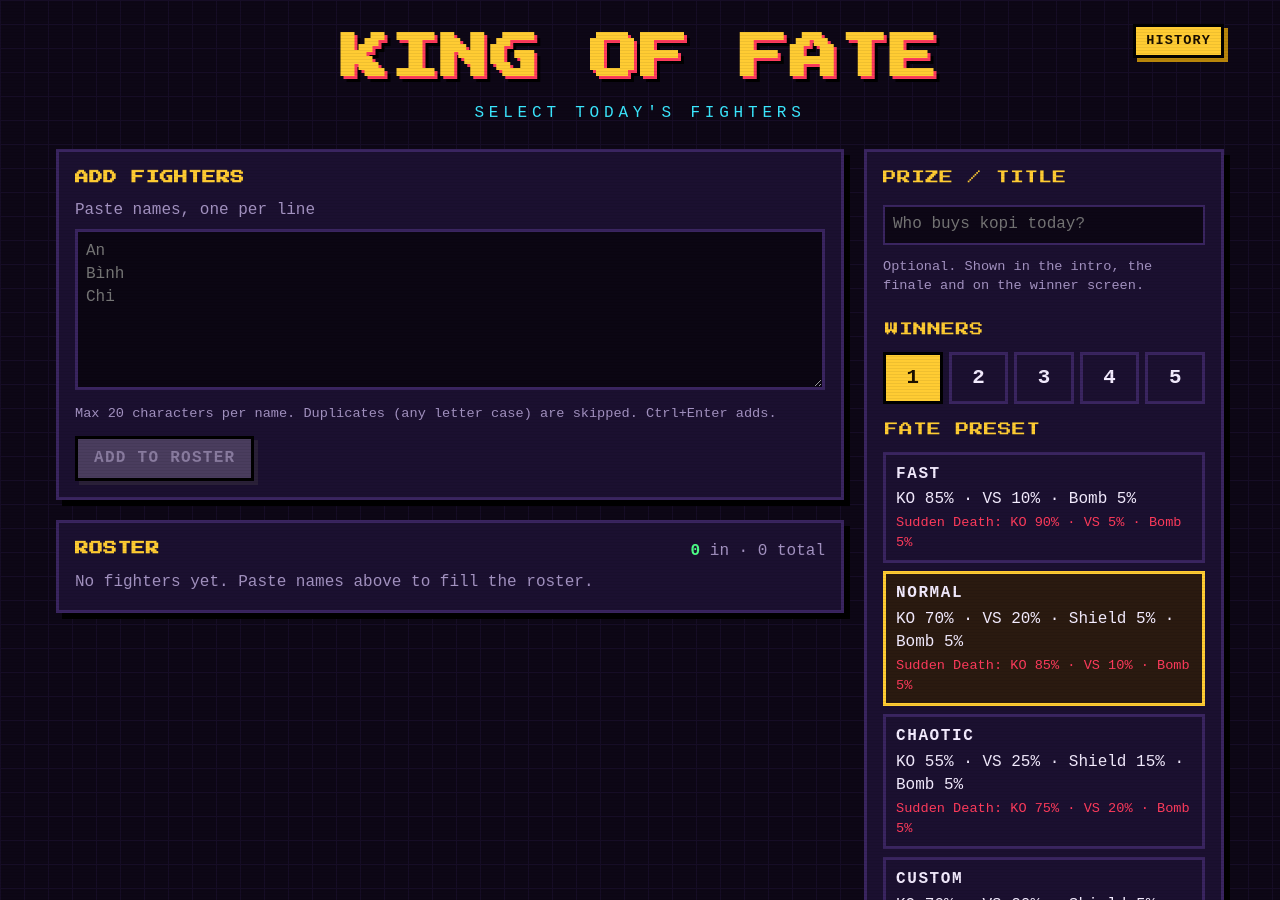
it: History screen (Phase 6) › ranks the luck board and explains it is chance, not skill
Click the button "History" at (1179, 41), box [1133,24,1224,58]
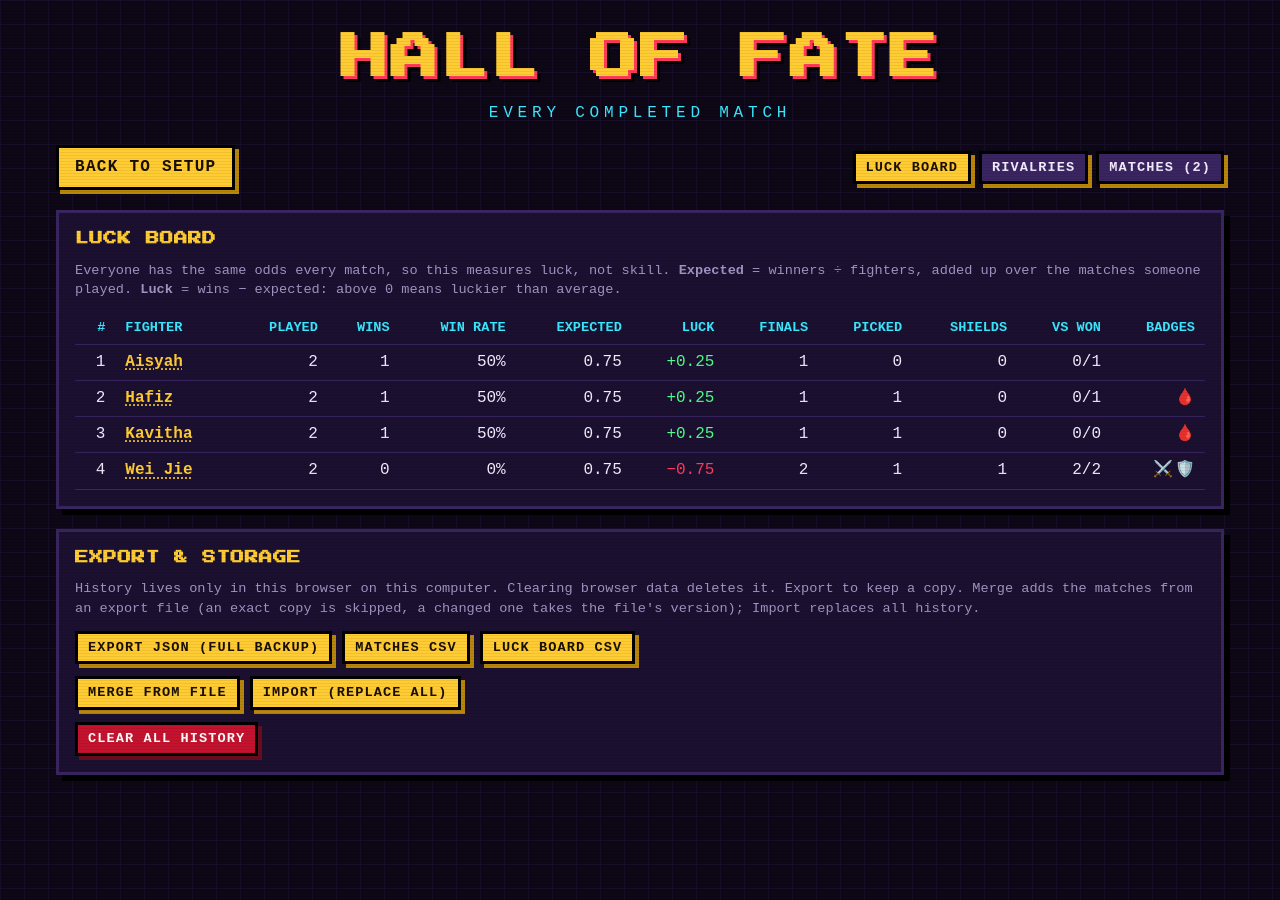
Check: the heading "Hall of Fate" is shown, box [340,34,940,82]
Check: the text "this measures luck, not skill" is shown, box [75,263,670,278]
Check: the 1st cell "2" is shown, box [234,344,328,380]
